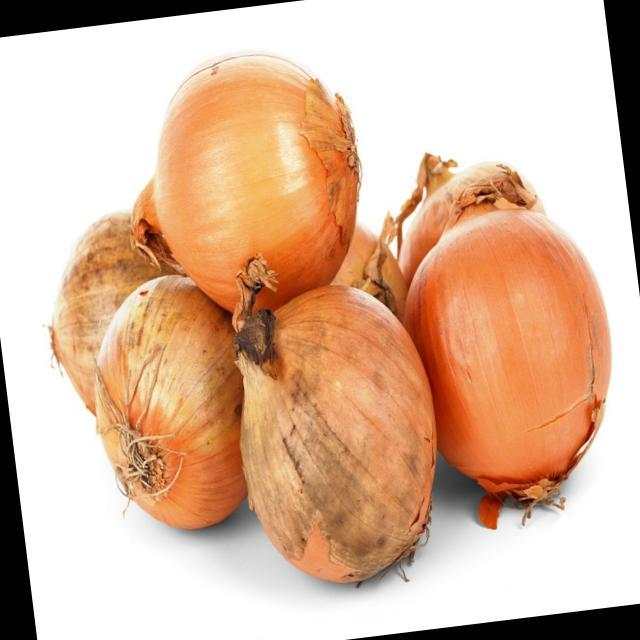ONIONS: (399, 180, 629, 516), (224, 274, 450, 598), (128, 41, 371, 302), (78, 268, 250, 542), (34, 205, 192, 438)
